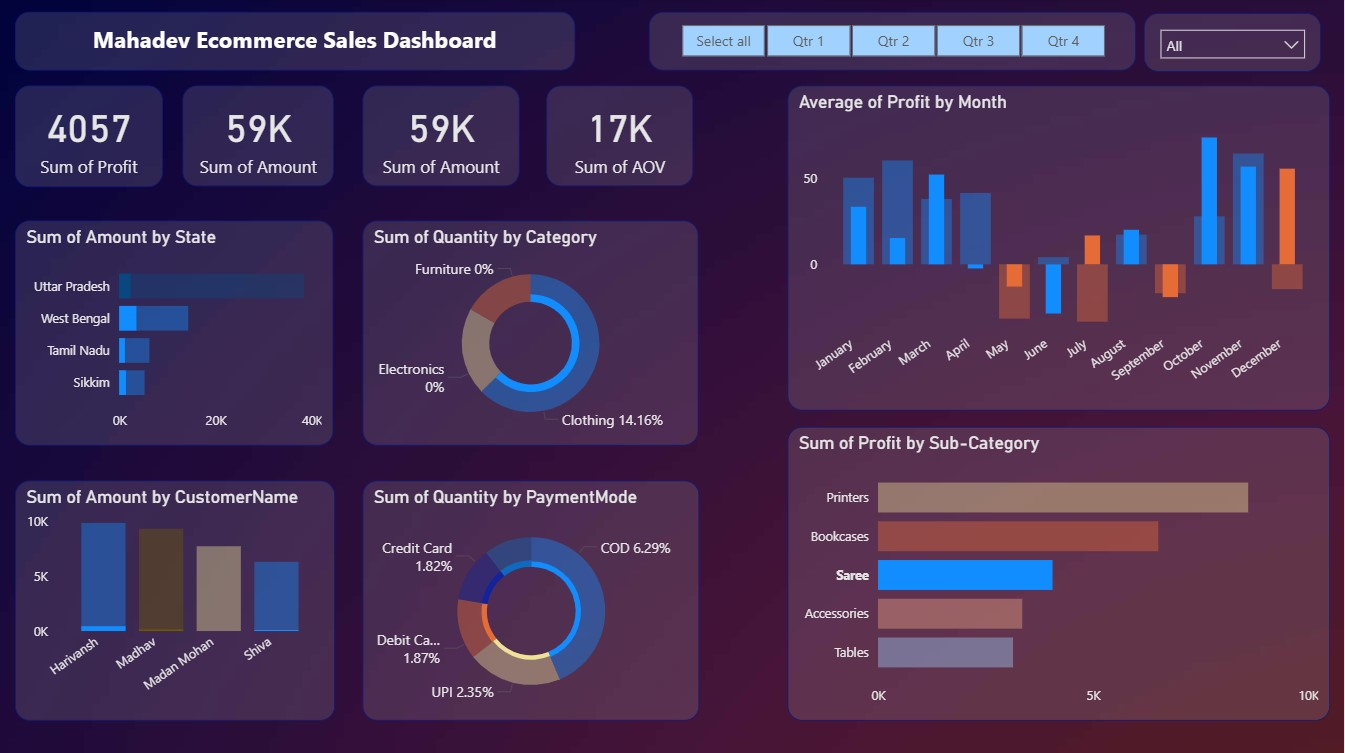

This screenshot's page, from the dashboard's own definition file:
{"tool":"powerbi","page":{"name":"Page 1","canvas":[1280,720],"ordinal":0},"visuals":[{"type":"textbox","box":[14.3,13.1,533.3,56],"z":0},{"type":"columnChart","fields":{"Category":["Orders.Order Date.Variation.Date Hierarchy.Month"],"Y":["Details.Profit"]},"box":[750,83.3,516.7,309.5],"z":1000},{"type":"barChart","fields":{"Category":["Details.Sub-Category"],"Y":["Details.Profit"]},"box":[750,408.3,516.7,279.8],"z":2000},{"type":"donutChart","fields":{"Category":["Details.Category"],"Y":["Details.Quantity"]},"box":[345.8,211.3,319.7,214.1],"z":3000},{"type":"donutChart","fields":{"Y":["Details.Quantity"],"Category":["Details.PaymentMode"]},"box":[345.8,459.7,321.1,229.2],"z":4000},{"type":"card","fields":{"Values":["Details.Profit"]},"box":[14.3,83.3,140.5,96.4],"z":5000},{"type":"card","fields":{"Values":["Details.Amount"]},"box":[174.3,83.7,144.1,96.1],"z":6000},{"type":"card","fields":{"Values":["Details.Amount"]},"box":[345.8,83.7,149.6,96.1],"z":7000},{"type":"card","fields":{"Values":["Details.AOV"]},"box":[520.1,83.7,140,96.1],"z":8000},{"type":"barChart","fields":{"Y":["Details.Amount"],"Category":["Orders.State"]},"box":[14.3,211.9,303.6,214.3],"z":9000},{"type":"clusteredColumnChart","fields":{"Category":["Orders.CustomerName"],"Y":["Details.Amount"]},"box":[13.7,459.7,304.6,229.2],"z":10000},{"type":"slicer","fields":{"Values":["Orders.Order Date.Variation.Date Hierarchy.Quarter"]},"box":[617.9,13.1,464.3,56],"z":11000},{"type":"slicer","fields":{"Values":["Orders.State"]},"box":[1089.3,14.3,169,56],"z":12000}]}

Visuals, with their boxes in screenshot pixels (x1, y1, x2, y2), scaled from the page's 1280x720 canvas onto the 1345x753 screenshot:
textbox: detection(15, 14, 575, 72)
columnChart - Orders.Order Date.Variation.Date Hierarchy.Month x Details.Profit: detection(788, 87, 1331, 411)
barChart - Details.Sub-Category x Details.Profit: detection(788, 427, 1331, 720)
donutChart - Details.Category x Details.Quantity: detection(363, 221, 699, 445)
donutChart - Details.Quantity x Details.PaymentMode: detection(363, 481, 701, 720)
card - Details.Profit: detection(15, 87, 163, 188)
card - Details.Amount: detection(183, 88, 335, 188)
card - Details.Amount: detection(363, 88, 521, 188)
card - Details.AOV: detection(547, 88, 694, 188)
barChart - Details.Amount x Orders.State: detection(15, 222, 334, 446)
clusteredColumnChart - Orders.CustomerName x Details.Amount: detection(14, 481, 334, 720)
slicer - Orders.Order Date.Variation.Date Hierarchy.Quarter: detection(649, 14, 1137, 72)
slicer - Orders.State: detection(1145, 15, 1322, 74)
